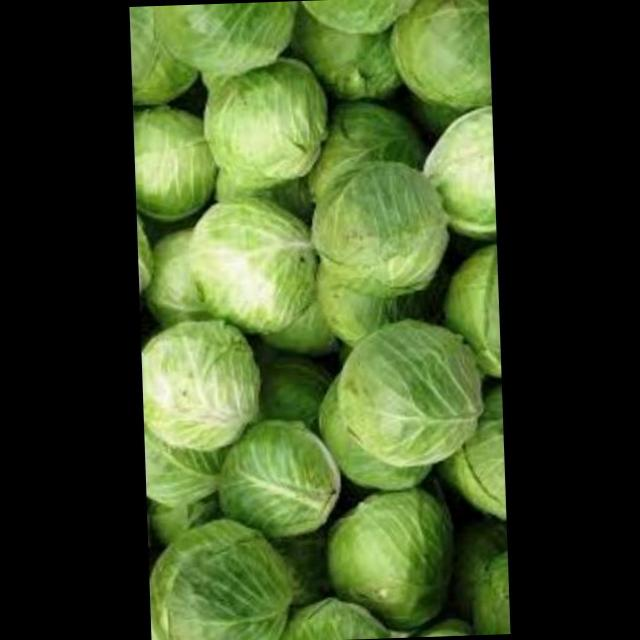cabbage: (188, 146, 330, 346), (323, 296, 482, 472), (310, 462, 468, 632), (146, 490, 320, 640), (286, 150, 463, 296), (138, 283, 263, 457), (209, 410, 356, 547), (195, 28, 334, 168), (401, 94, 496, 243), (128, 3, 245, 118), (383, 0, 491, 123), (136, 82, 220, 223), (426, 233, 500, 393), (156, 1, 298, 79), (425, 402, 506, 538), (314, 0, 396, 79)
